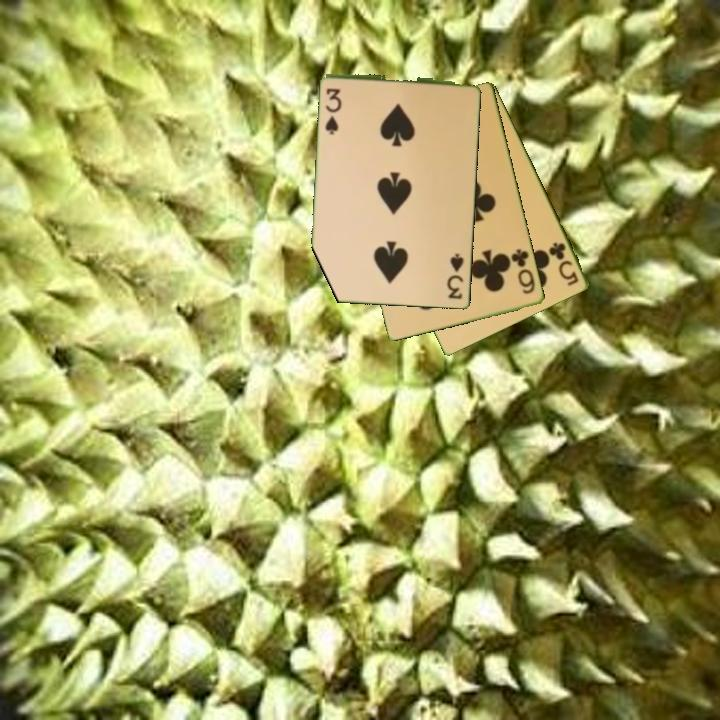3s: (444, 250, 467, 302), (322, 85, 345, 135)
5c: (546, 238, 582, 289)
6c: (508, 245, 538, 297)
